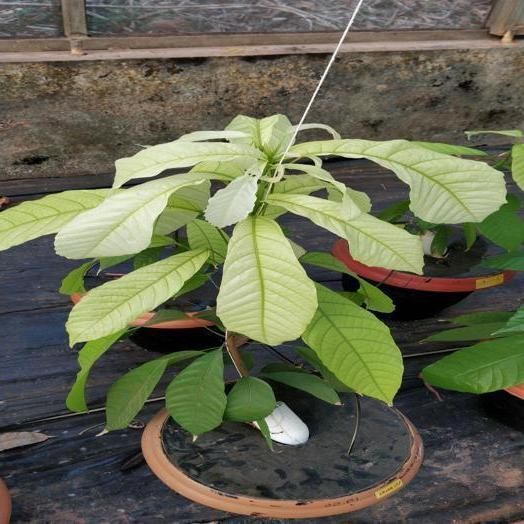Healthy Leaf: (106, 352, 200, 428), (422, 335, 523, 393), (300, 252, 393, 312), (166, 349, 225, 434), (477, 195, 523, 250), (262, 370, 339, 402), (226, 377, 275, 419), (424, 323, 501, 340), (483, 251, 523, 270)
Iron: (291, 139, 505, 221), (66, 249, 208, 344), (217, 216, 317, 344), (55, 175, 204, 257), (268, 194, 422, 273), (302, 284, 402, 404), (115, 140, 261, 188), (0, 190, 108, 250), (66, 330, 124, 411), (155, 182, 209, 234), (225, 114, 293, 155), (205, 174, 256, 227), (273, 174, 344, 201), (187, 219, 228, 264), (191, 161, 250, 181)
